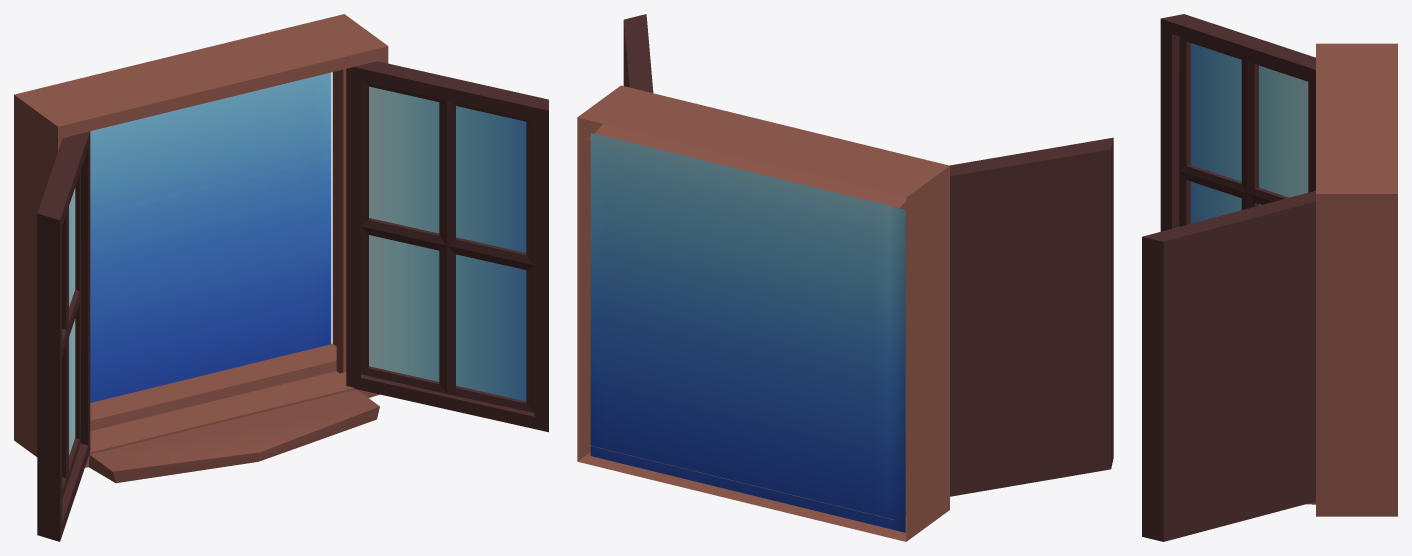
File: window airplane minigame 5.0.fbx
3 renders of one model, left to right at view 1: azimuth 30°, elevation 25°; view 2: azimuth 150°, elevation 25°; view 3: azimuth 270°, elevation 25°, orthographic. The views are drawn at different scales.
Visible parts, largest first — view 1: Cube.007; view 2: Cube.007; view 3: Cube.007.
Boxes of the visible parts, box(x1,y1,x2,y2) form: Cube.007: box(14, 14, 548, 541); Cube.007: box(577, 14, 1113, 541); Cube.007: box(1142, 14, 1397, 541).
Bounding box in the file's own units: 1060 × 708 × 503.
